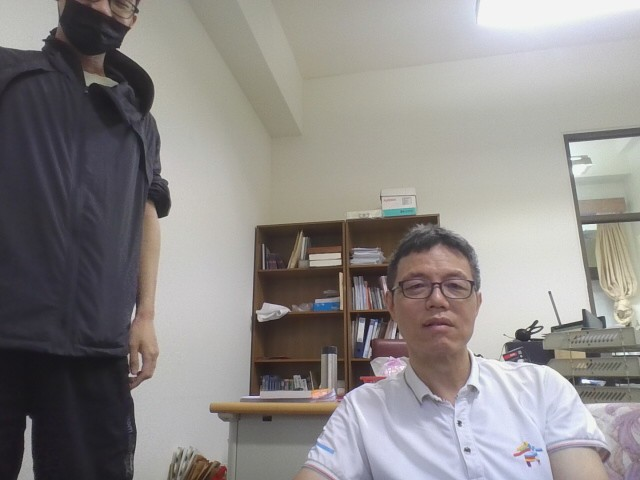No_Gloves: (123, 308, 163, 391)
No_Helmet: (380, 219, 487, 364), (47, 0, 161, 68)
person: (255, 205, 635, 480), (0, 2, 185, 479)
